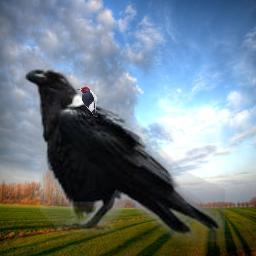Crow: (24, 60, 225, 242)
Woodpecker: (77, 86, 98, 117)
